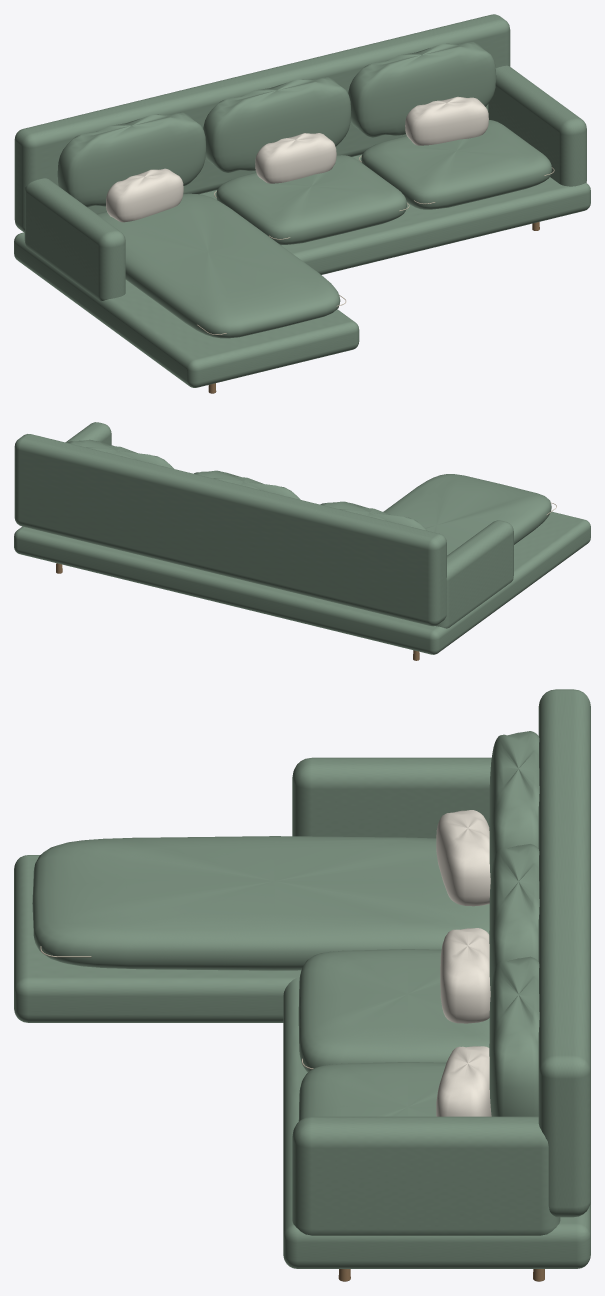
3 renders of one model, top to bottom at view 1: azimuth 30°, elevation 25°; view 2: azimuth 150°, elevation 25°; view 3: azimuth 270°, elevation 25°, orthographic. The views are drawn at different scales.
Visible parts, largest first — view 1: seat_0, back_frame, frame_chaise, frame_main, seat_2, seat_1, cushion_back_1, cushion_back_2, cushion_back_0, arm_-1, arm_1, scatter_pillow_2 (+2 smaller); view 2: back_frame, frame_main, frame_chaise, seat_0, arm_-1, cushion_back_1, cushion_back_0, cushion_back_2, arm_1; view 3: seat_0, arm_1, back_frame, seat_1, frame_chaise, frame_main, arm_-1, cushion_back_2, seat_2, cushion_back_1, cushion_back_0, scatter_pillow_0 (+2 smaller).
Boxes of the visible parts, x1,y1,x2,y2 form: seat_0: [97, 193, 340, 338]; back_frame: [14, 14, 510, 232]; frame_chaise: [14, 232, 359, 387]; frame_main: [125, 154, 590, 293]; seat_2: [361, 120, 551, 209]; seat_1: [216, 155, 406, 245]; cushion_back_1: [203, 77, 351, 172]; cushion_back_2: [348, 42, 496, 137]; cushion_back_0: [57, 112, 206, 207]; arm_-1: [24, 178, 125, 300]; arm_1: [488, 65, 586, 186]; scatter_pillow_2: [405, 96, 488, 145]; back_frame: [14, 434, 446, 626]; frame_main: [14, 526, 516, 654]; frame_chaise: [293, 511, 590, 654]; seat_0: [383, 474, 551, 555]; arm_-1: [435, 520, 513, 628]; cushion_back_1: [194, 470, 300, 499]; cushion_back_0: [320, 501, 426, 530]; cushion_back_2: [67, 439, 173, 468]; arm_1: [65, 422, 111, 444]; seat_0: [32, 836, 489, 970]; arm_1: [292, 1116, 560, 1235]; back_frame: [538, 689, 590, 1217]; seat_1: [298, 949, 489, 1072]; frame_chaise: [14, 855, 301, 1022]; frame_main: [283, 977, 590, 1268]; arm_-1: [292, 757, 491, 838]; cushion_back_2: [489, 956, 539, 1116]; seat_2: [298, 1062, 446, 1121]; cushion_back_1: [489, 844, 539, 992]; cushion_back_0: [489, 731, 539, 879]; scatter_pillow_0: [436, 810, 490, 906].
Bounding box in the file's own units: 2.8 × 0.85 × 1.8.
4 materials, 3 textured.
